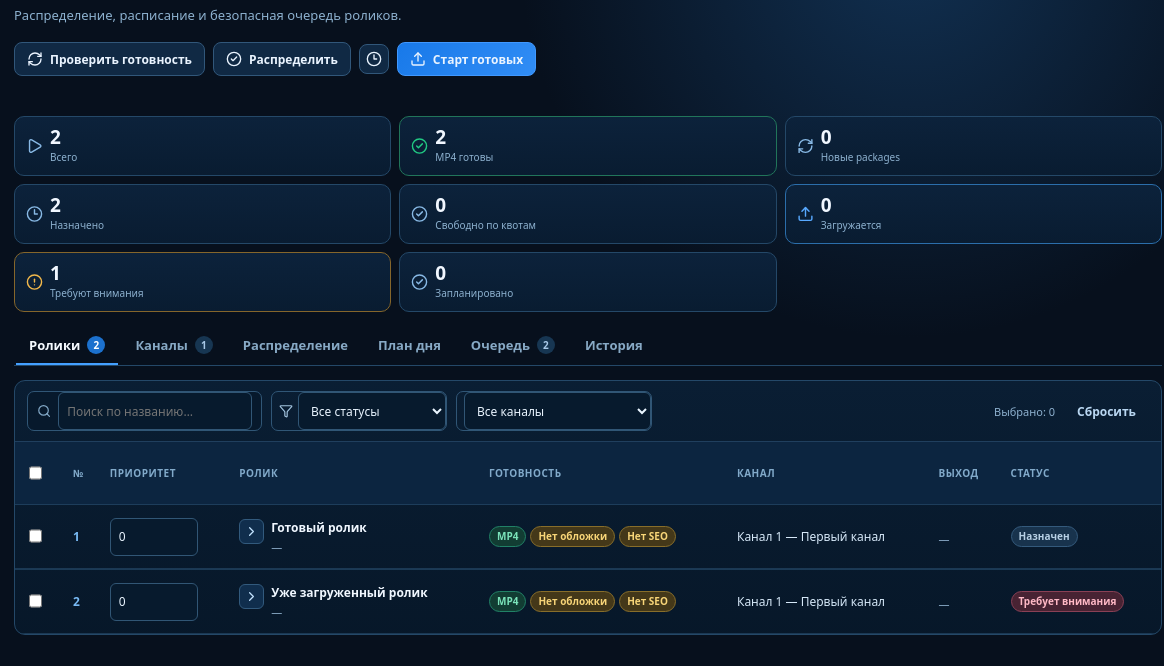
Test: PublicationPage interactions › opens non-uploading distribution preview and preserves its manual lock affordance
The image size is (1164, 666).
Click the button "Распределить".
click(282, 59)  # box x1=213 y1=42 x2=351 y2=76
(page scrolled)
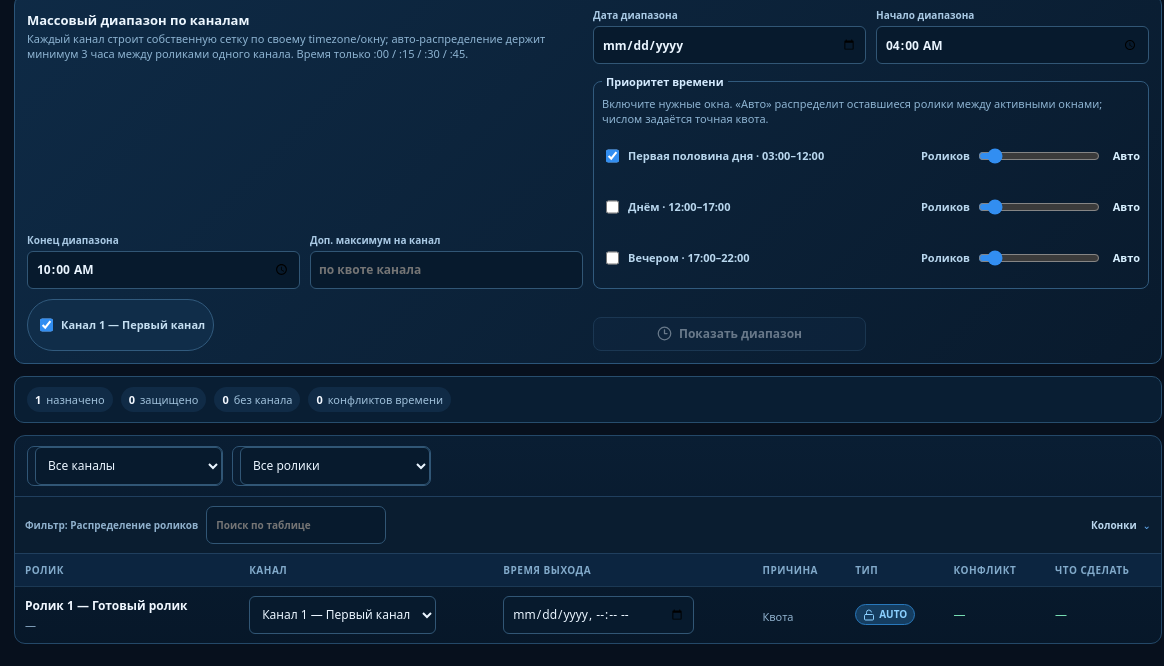
expect the text "AUTO" is shown: met, box x1=855 y1=604 x2=915 y2=625
